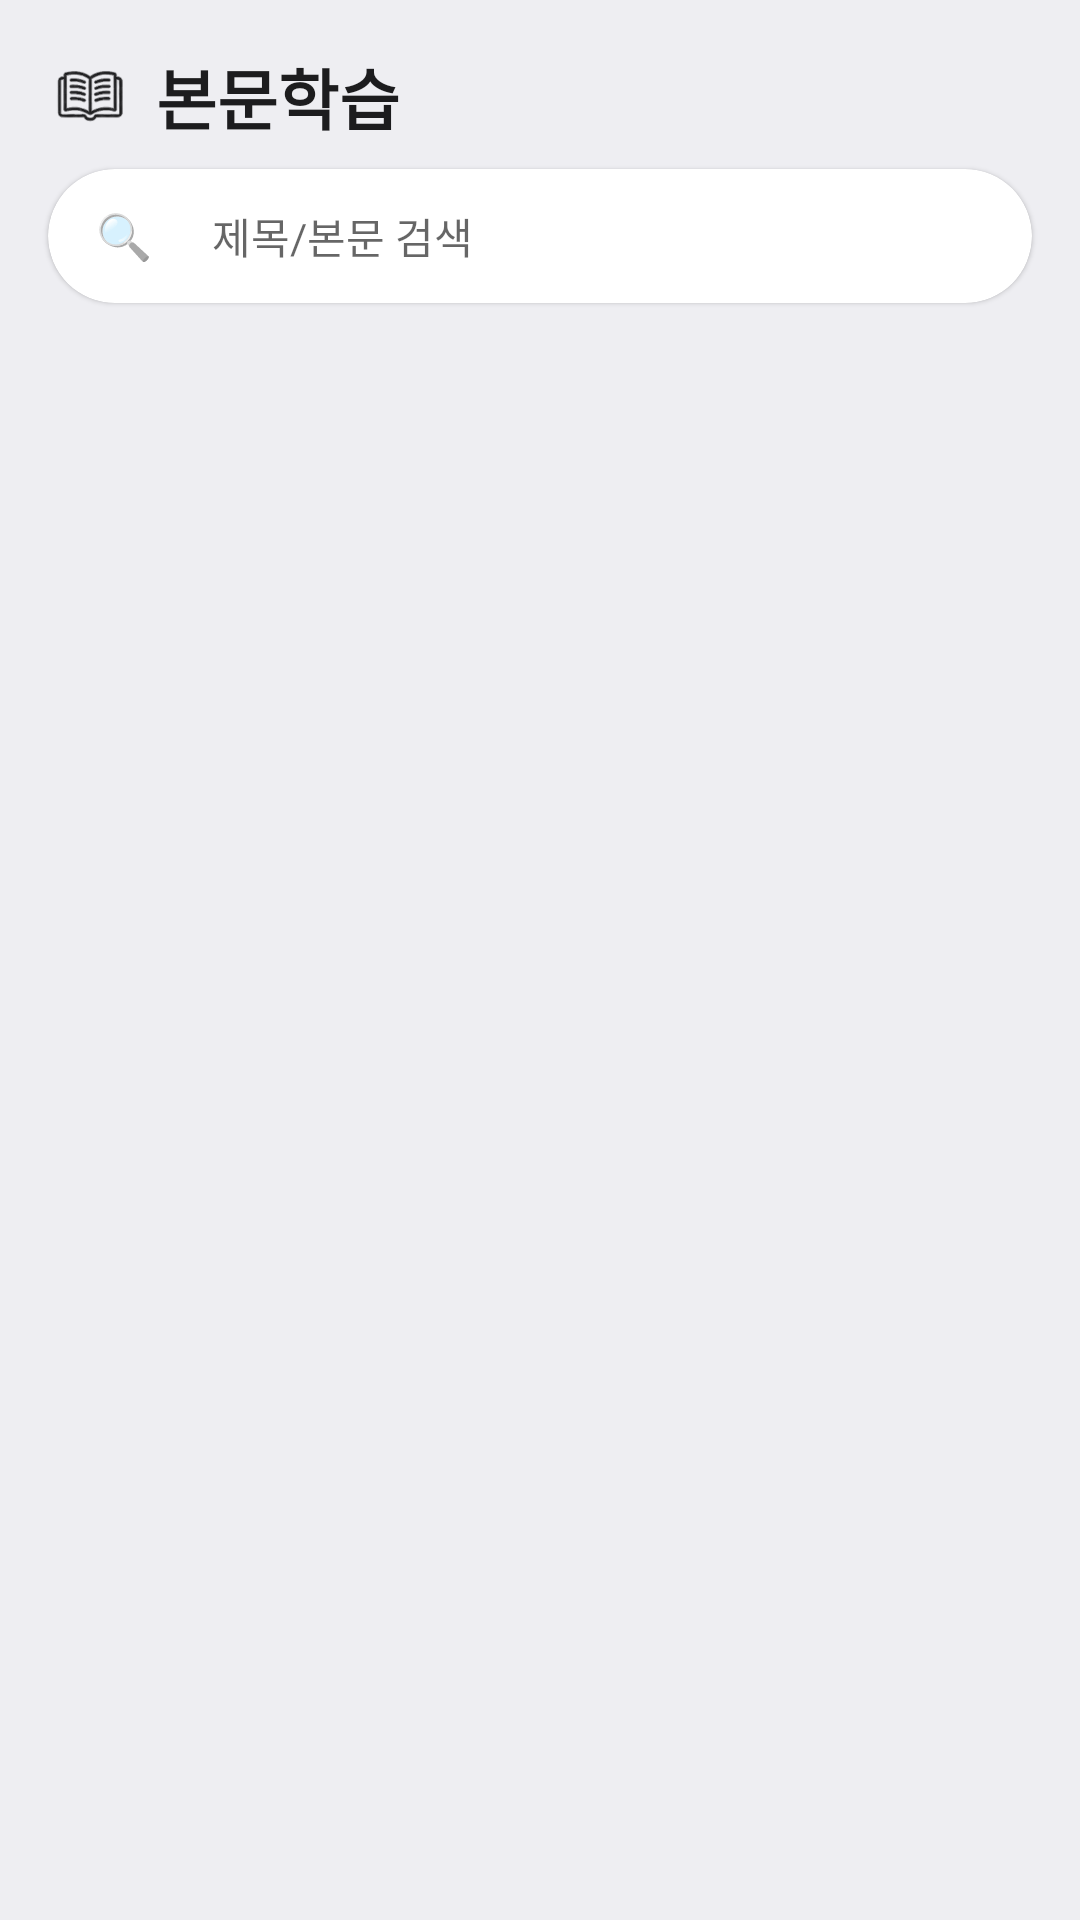

Icons on this 1080×1920 Android screen, each with its box as (x1, y1, x2, y2):
tile study: (57, 71, 123, 122)
